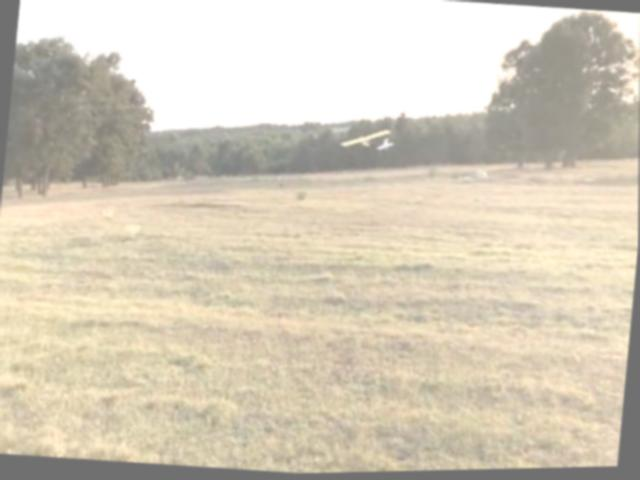uav: (338, 119, 400, 158)
